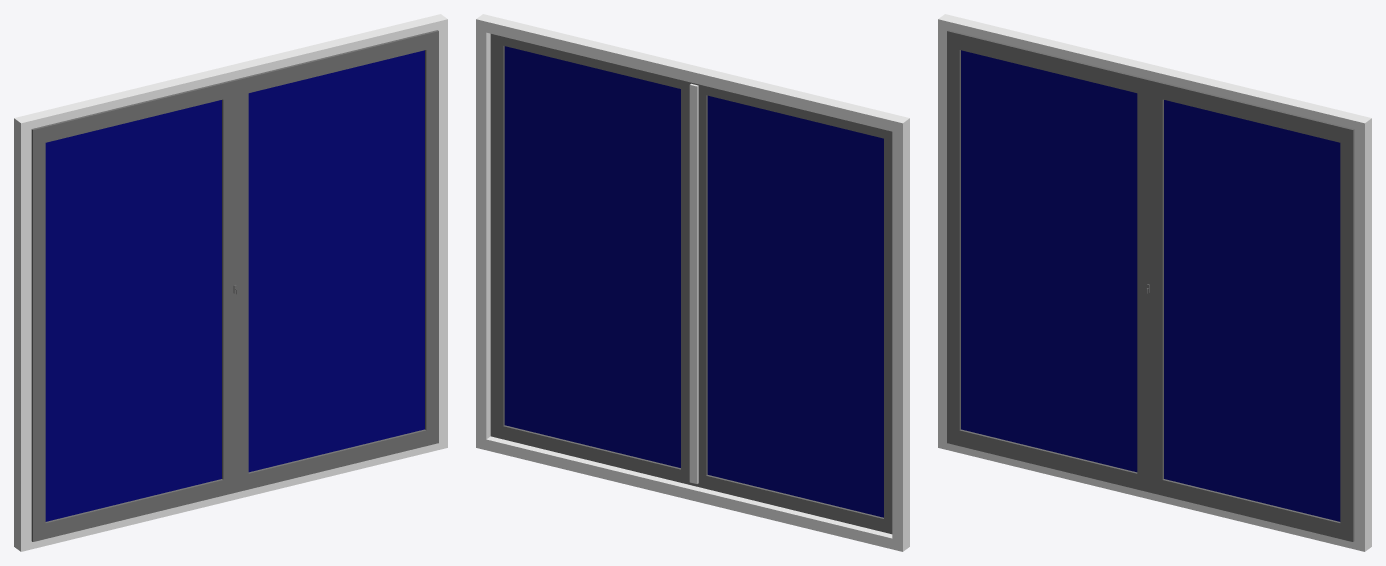
The model's file is fenetre.gltf.
The picture shows the model from 3 angles, left to right: view 1: azimuth 30°, elevation 25°; view 2: azimuth 150°, elevation 25°; view 3: azimuth 330°, elevation 25°; orthographic projection.
Parts seen in each view (by area): view 1: root; view 2: root; view 3: root.
Boxes of the visible parts, bbox=[...] form: root: bbox=[14, 14, 447, 551]; root: bbox=[476, 14, 909, 551]; root: bbox=[938, 14, 1371, 551].
Bounding box in the file's own units: 1.73 × 1.66 × 0.0742.
